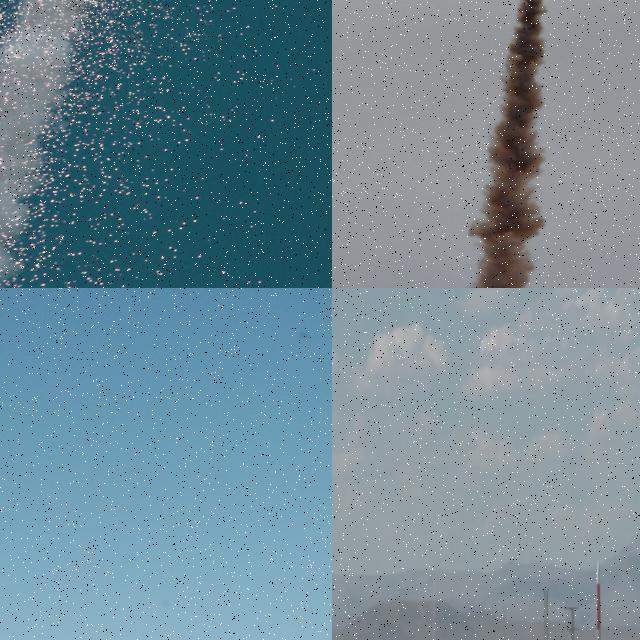Rocket: (593, 562, 603, 640)
